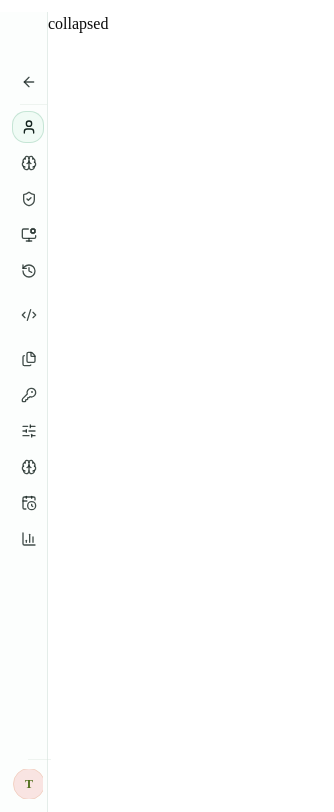
Test: SettingsSidebar collapsed rail behavior › expands the collapsed settings rail when a settings nav icon is clicked
The width and height of the screenshot is (334, 812).
Expected: the text with test id "settings-sidebar-state" reads "collapsed", [48, 15, 108, 32]
Click the 1st link named "个人资料".
click(28, 127)  # box [12, 111, 44, 143]
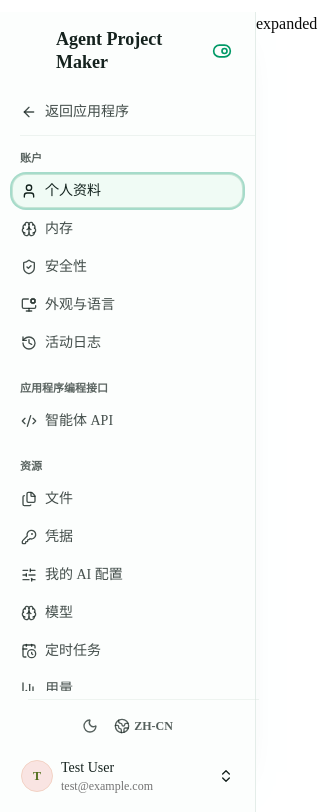
Expected: the text with test id "settings-sidebar-state" reads "expanded", [256, 15, 317, 32]
